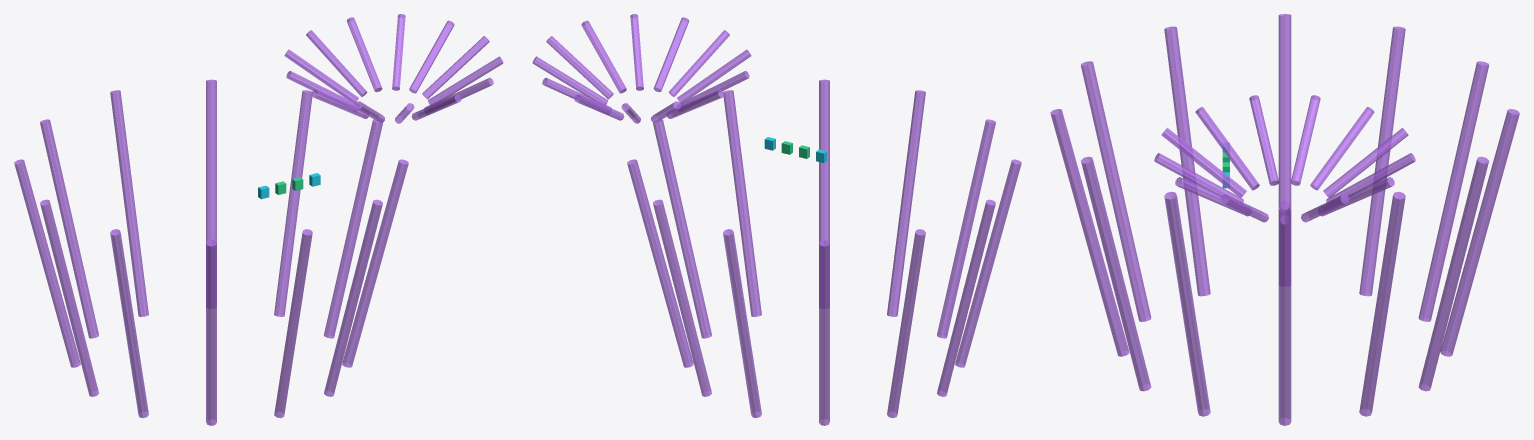
Rendered from 46_L78_CureOutgassingMonitor.fbx.
The picture shows the model from 3 angles, left to right: view 1: azimuth 30°, elevation 25°; view 2: azimuth 150°, elevation 25°; view 3: azimuth 270°, elevation 25°; orthographic projection. The views are drawn at different scales.
Visible parts, largest first — view 1: CureOutgassingMonitor, CureOutgassingMonitor_Part_0012, CureOutgassingMonitor_Part_0020, CureOutgassingMonitor_Part_0024, CureOutgassingMonitor_Part_0013, CureOutgassingMonitor_Part_0021, CureOutgassingMonitor_Part_0022, CureOutgassingMonitor_Part_0023, CureOutgassingMonitor_Part_0018, CureOutgassingMonitor_Part_0019; view 2: CureOutgassingMonitor, CureOutgassingMonitor_Part_0012, CureOutgassingMonitor_Part_0017, CureOutgassingMonitor_Part_0013, CureOutgassingMonitor_Part_0024, CureOutgassingMonitor_Part_0015, CureOutgassingMonitor_Part_0016, CureOutgassingMonitor_Part_0014, CureOutgassingMonitor_Part_0019, CureOutgassingMonitor_Part_0018; view 3: CureOutgassingMonitor, CureOutgassingMonitor_Part_0016, CureOutgassingMonitor_Part_0021, CureOutgassingMonitor_Part_0017, CureOutgassingMonitor_Part_0020, CureOutgassingMonitor_Part_0018, CureOutgassingMonitor_Part_0019, CureOutgassingMonitor_Part_0015, CureOutgassingMonitor_Part_0022, CureOutgassingMonitor_Part_0014, CureOutgassingMonitor_Part_0023, CureOutgassingMonitor_Part_0013 (+1 smaller).
Boxes of the visible parts, x1,y1,x2,y2 form: CureOutgassingMonitor: (14,79,408,425); CureOutgassingMonitor_Part_0012: (422,36,489,99); CureOutgassingMonitor_Part_0020: (284,49,358,102); CureOutgassingMonitor_Part_0024: (409,20,454,93); CureOutgassingMonitor_Part_0013: (428,56,503,104); CureOutgassingMonitor_Part_0021: (306,30,367,96); CureOutgassingMonitor_Part_0022: (346,17,382,92); CureOutgassingMonitor_Part_0023: (392,14,405,90); CureOutgassingMonitor_Part_0018: (311,90,368,118); CureOutgassingMonitor_Part_0019: (286,71,355,105); CureOutgassingMonitor: (627,79,1021,425); CureOutgassingMonitor_Part_0012: (546,36,613,99); CureOutgassingMonitor_Part_0017: (677,49,751,102); CureOutgassingMonitor_Part_0013: (581,20,626,93); CureOutgassingMonitor_Part_0024: (532,56,607,104); CureOutgassingMonitor_Part_0015: (653,17,689,92); CureOutgassingMonitor_Part_0016: (668,30,729,96); CureOutgassingMonitor_Part_0014: (630,14,643,90); CureOutgassingMonitor_Part_0019: (667,90,724,118); CureOutgassingMonitor_Part_0018: (680,71,749,105); CureOutgassingMonitor: (1050,14,1519,425); CureOutgassingMonitor_Part_0016: (1161,127,1246,197); CureOutgassingMonitor_Part_0021: (1323,127,1408,197); CureOutgassingMonitor_Part_0017: (1195,107,1259,190); CureOutgassingMonitor_Part_0020: (1310,107,1374,190); CureOutgassingMonitor_Part_0018: (1249,95,1279,185); CureOutgassingMonitor_Part_0019: (1290,95,1320,185); CureOutgassingMonitor_Part_0015: (1154,153,1243,202); CureOutgassingMonitor_Part_0022: (1326,153,1415,202); CureOutgassingMonitor_Part_0014: (1175,177,1249,216); CureOutgassingMonitor_Part_0023: (1320,177,1394,216); CureOutgassingMonitor_Part_0013: (1220,194,1268,222).
Size of the model in its own units: 210 by 118 by 160.
